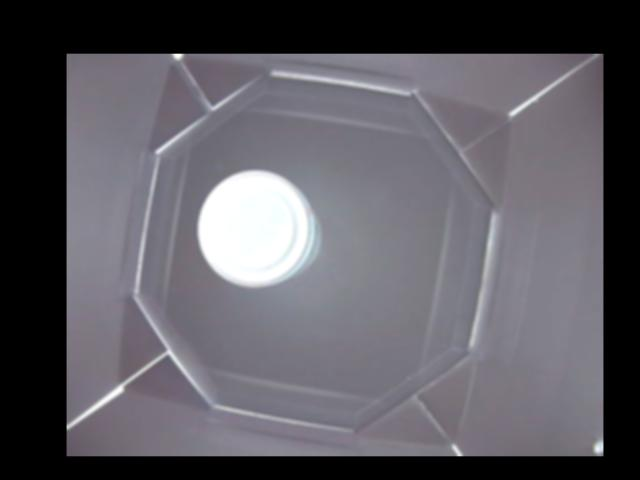Bottle: (194, 169, 318, 286)
